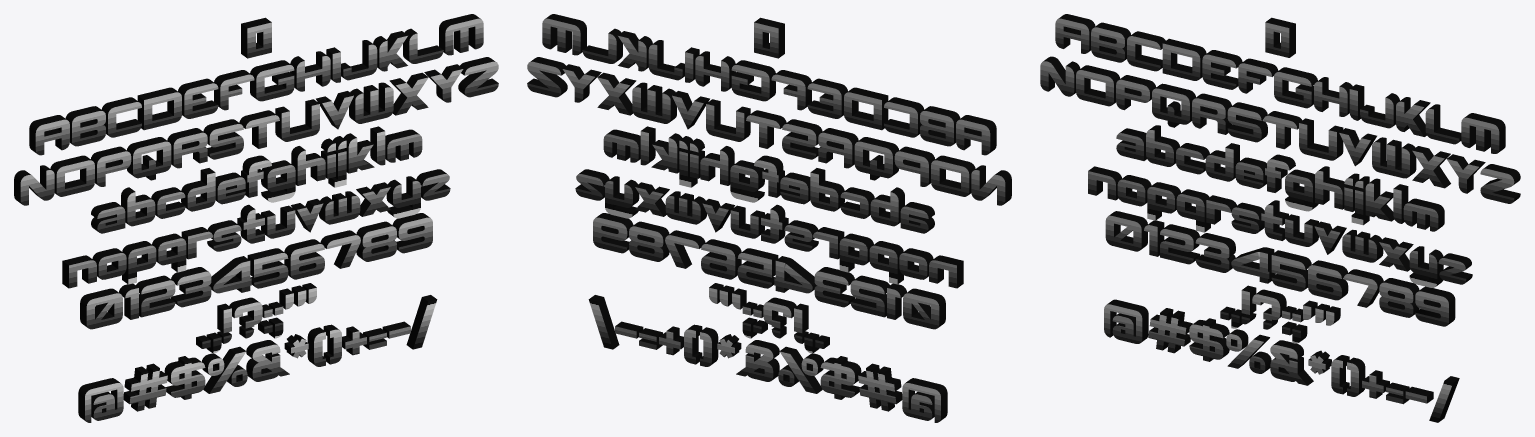
File: font.sciFi.fbx
3 renders of one model, left to right at view 1: azimuth 30°, elevation 25°; view 2: azimuth 150°, elevation 25°; view 3: azimuth 330°, elevation 25°, orthographic.
Visible parts, largest first — view 1: MESH sciFi.symbol.at, MESH sciFi.upper.m, MESH sciFi.symbol.number, MESH sciFi.upper.w, MESH sciFi.upper.q, MESH sciFi.number.0, MESH sciFi.symbol.percent, MESH sciFi.upper.g, MESH sciFi.upper.d, MESH sciFi.symbol.dollar, MESH sciFi.number.8, MESH sciFi.upper.o (+62 smaller); view 2: MESH sciFi.symbol.at, MESH sciFi.upper.m, MESH sciFi.symbol.number, MESH sciFi.upper.w, MESH sciFi.upper.q, MESH sciFi.number.0, MESH sciFi.symbol.percent, MESH sciFi.upper.g, MESH sciFi.upper.d, MESH sciFi.symbol.dollar, MESH sciFi.number.8, MESH sciFi.upper.o (+62 smaller); view 3: MESH sciFi.symbol.at, MESH sciFi.upper.m, MESH sciFi.upper.w, MESH sciFi.upper.q, MESH sciFi.symbol.number, MESH sciFi.number.0, MESH sciFi.symbol.dollar, MESH sciFi.upper.d, MESH sciFi.upper.g, MESH sciFi.symbol.ampersand, MESH sciFi.number.9, MESH sciFi.number.6 (+62 smaller).
Part boxes in pixels (box(x1,y1,x2,y2)): MESH sciFi.symbol.at: box(78, 378, 123, 422); MESH sciFi.upper.m: box(439, 14, 483, 55); MESH sciFi.symbol.number: box(123, 363, 167, 411); MESH sciFi.upper.w: box(349, 82, 393, 123); MESH sciFi.upper.q: box(127, 137, 171, 180); MESH sciFi.number.0: box(80, 288, 122, 329); MESH sciFi.symbol.percent: box(202, 346, 247, 393); MESH sciFi.upper.g: box(250, 60, 294, 101); MESH sciFi.upper.d: box(137, 87, 181, 130); MESH sciFi.symbol.dollar: box(164, 356, 205, 399); MESH sciFi.number.8: box(356, 221, 396, 261); MESH sciFi.upper.o: box(50, 155, 94, 196); MESH sciFi.symbol.at: box(902, 378, 947, 422); MESH sciFi.upper.m: box(542, 14, 586, 55); MESH sciFi.symbol.number: box(858, 363, 902, 411); MESH sciFi.upper.w: box(632, 82, 676, 123); MESH sciFi.upper.q: box(854, 137, 898, 180); MESH sciFi.number.0: box(903, 288, 945, 329); MESH sciFi.symbol.percent: box(778, 346, 823, 393); MESH sciFi.upper.g: box(731, 60, 775, 101); MESH sciFi.upper.d: box(844, 87, 888, 130); MESH sciFi.symbol.dollar: box(820, 356, 861, 399); MESH sciFi.number.8: box(629, 221, 669, 261); MESH sciFi.upper.o: box(931, 155, 975, 196); MESH sciFi.symbol.at: box(1104, 299, 1148, 343); MESH sciFi.upper.m: box(1461, 113, 1505, 153); MESH sciFi.upper.w: box(1372, 137, 1416, 178); MESH sciFi.upper.q: box(1152, 83, 1195, 127); MESH sciFi.symbol.number: box(1148, 308, 1192, 353); MESH sciFi.number.0: box(1105, 211, 1147, 251); MESH sciFi.symbol.dollar: box(1189, 318, 1229, 361); MESH sciFi.upper.d: box(1162, 38, 1206, 80); MESH sciFi.upper.g: box(1274, 67, 1317, 108); MESH sciFi.symbol.ampersand: box(1270, 340, 1313, 385); MESH sciFi.number.9: box(1415, 286, 1455, 326); MESH sciFi.number.6: box(1308, 260, 1348, 300).
Bounding box in the file's own units: 2148 × 50 × 1552.
2 materials, 1 textured.
